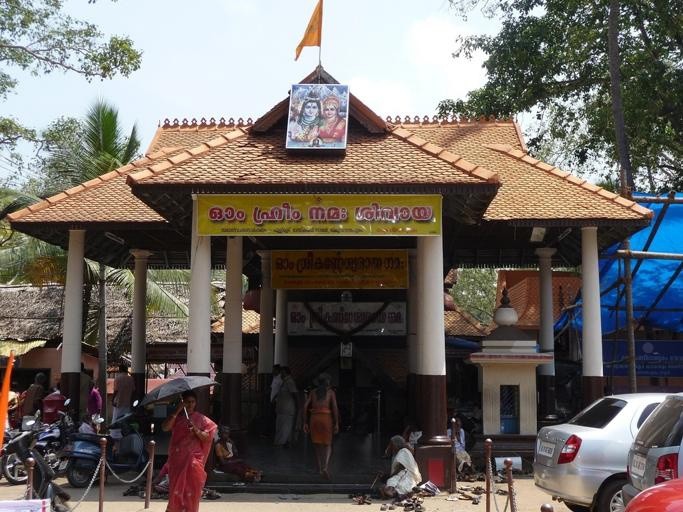non-vehicle: (56, 399, 148, 488), (0, 409, 71, 511)
